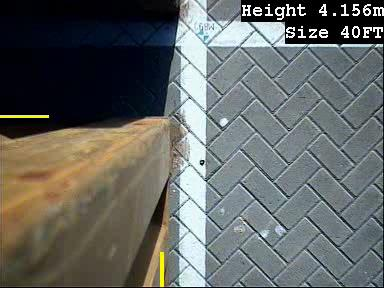groundmarker_2: (108, 129, 166, 159)
